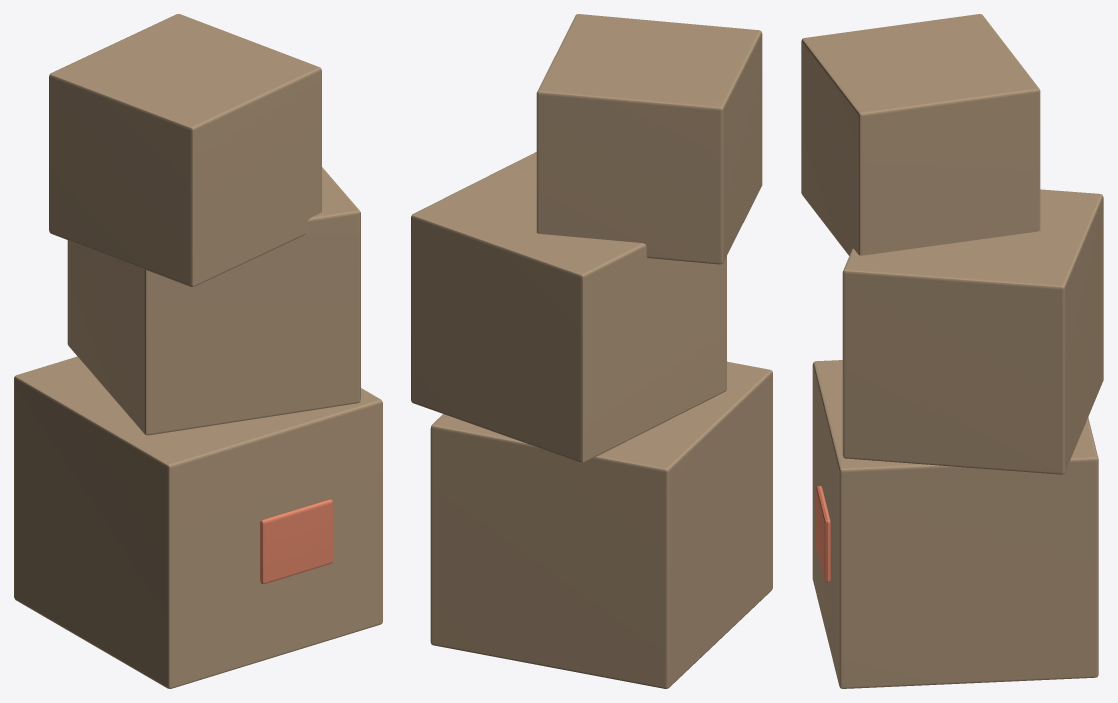
File: crate_stack.glb
The picture shows the model from 3 angles, left to right: view 1: azimuth 30°, elevation 25°; view 2: azimuth 150°, elevation 25°; view 3: azimuth 270°, elevation 25°; orthographic projection.
Parts seen in each view (by area): view 1: crate_stack; view 2: crate_stack; view 3: crate_stack.
Part boxes in pixels (<box>): crate_stack: <box>14,14,382,688</box>; crate_stack: <box>411,14,772,688</box>; crate_stack: <box>801,14,1103,688</box>.
Bounding box in the file's own units: 0.8982 × 1.75 × 0.8682.
